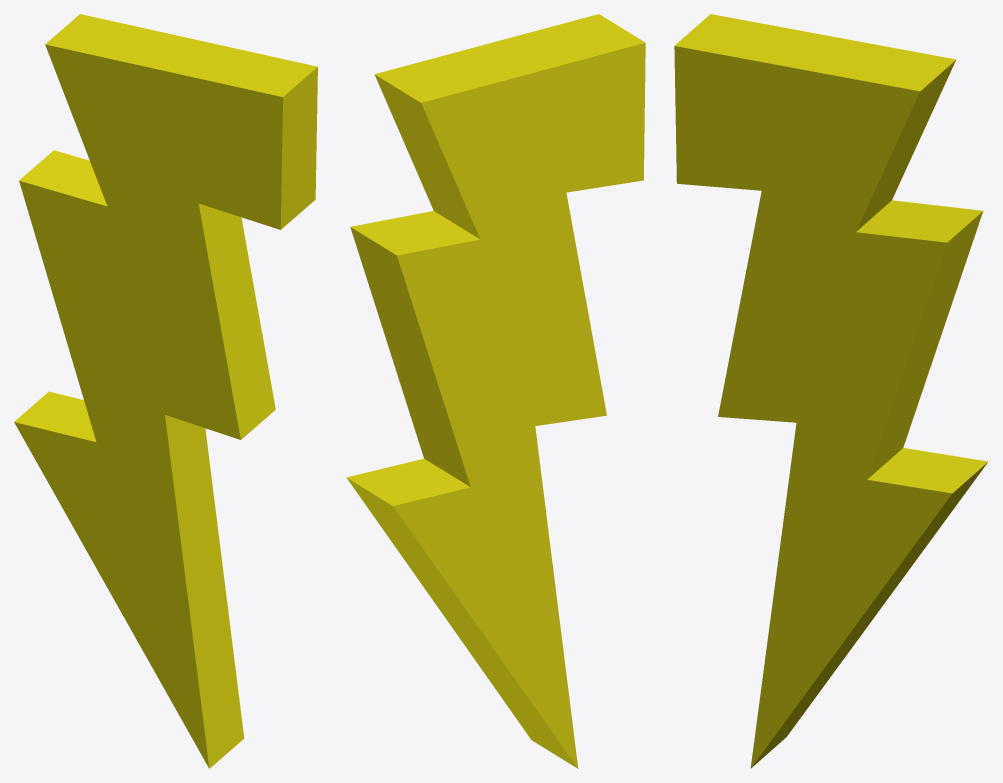
The model's file is speed.fbx.
3 views of the same model, side by side, from view 1: azimuth 90°, elevation 25°; view 2: azimuth 150°, elevation 25°; view 3: azimuth 270°, elevation 25° (orthographic). The views are drawn at different scales.
Visible parts, largest first — view 1: Cube; view 2: Cube; view 3: Cube.
Part boxes in pixels (x1,y1,x2,y2): Cube: (14,14,317,768); Cube: (346,14,645,768); Cube: (674,14,987,768).
Size of the model in its own units: 34.54 by 131 by 52.31.
